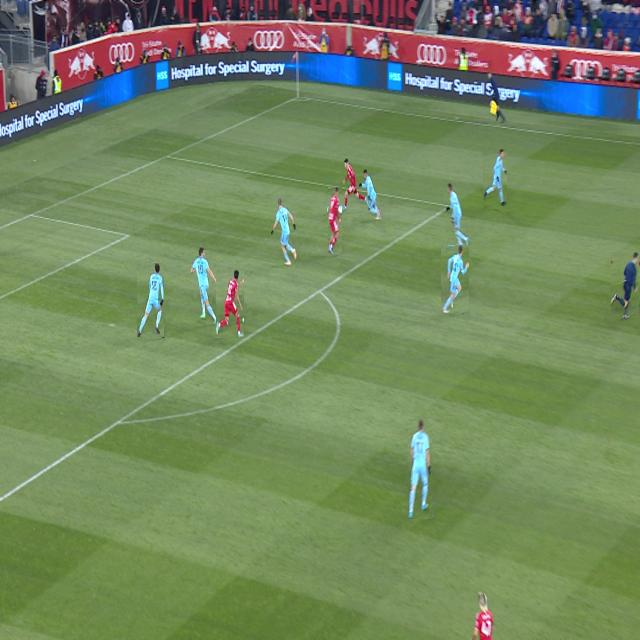football: (327, 205, 332, 214)
player: (190, 248, 220, 325), (409, 419, 432, 519), (216, 270, 244, 338), (138, 264, 164, 337), (442, 246, 469, 313), (271, 198, 297, 266), (447, 183, 469, 247), (341, 159, 368, 210), (484, 149, 507, 206), (359, 169, 381, 220), (472, 592, 493, 640), (328, 187, 342, 255)
referee: (611, 253, 639, 319)
